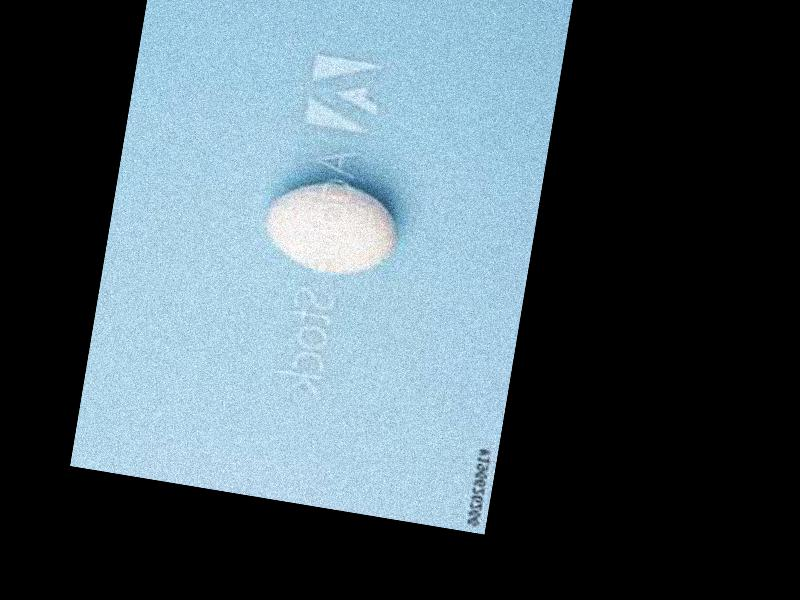Eggs: (262, 174, 401, 281)
